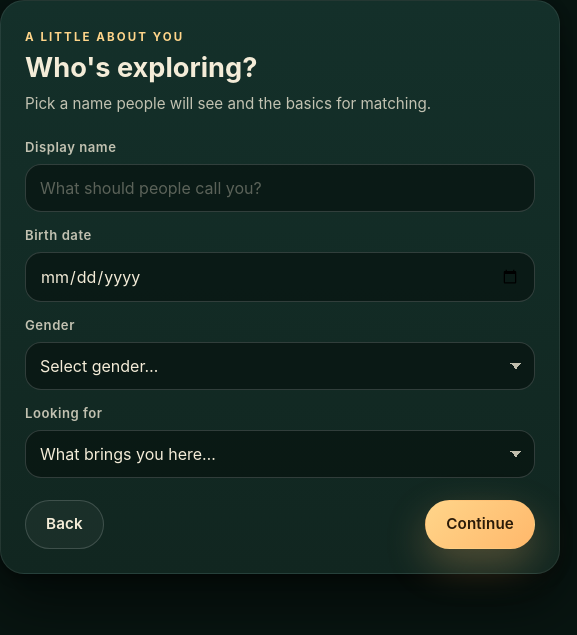
signup validation accessibility › announces basics errors and focuses the first missing field
Click the button "Continue": (480, 525) x1=425 y1=500 x2=535 y2=549
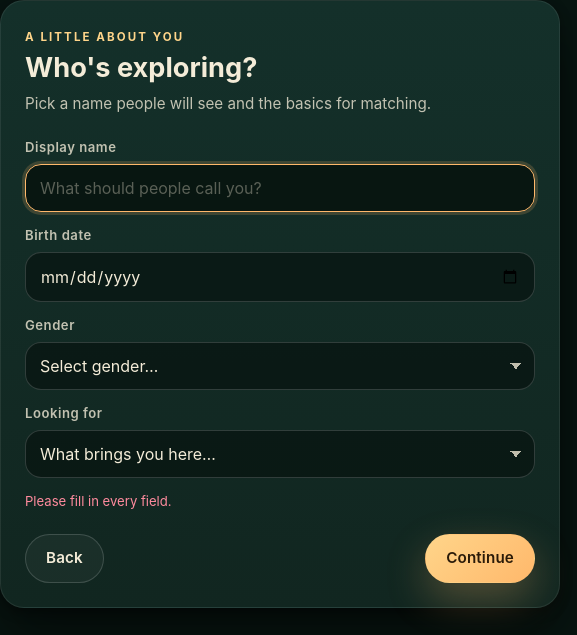
Now the message shows "fill in every field", box x1=25 y1=493 x2=172 y2=509
